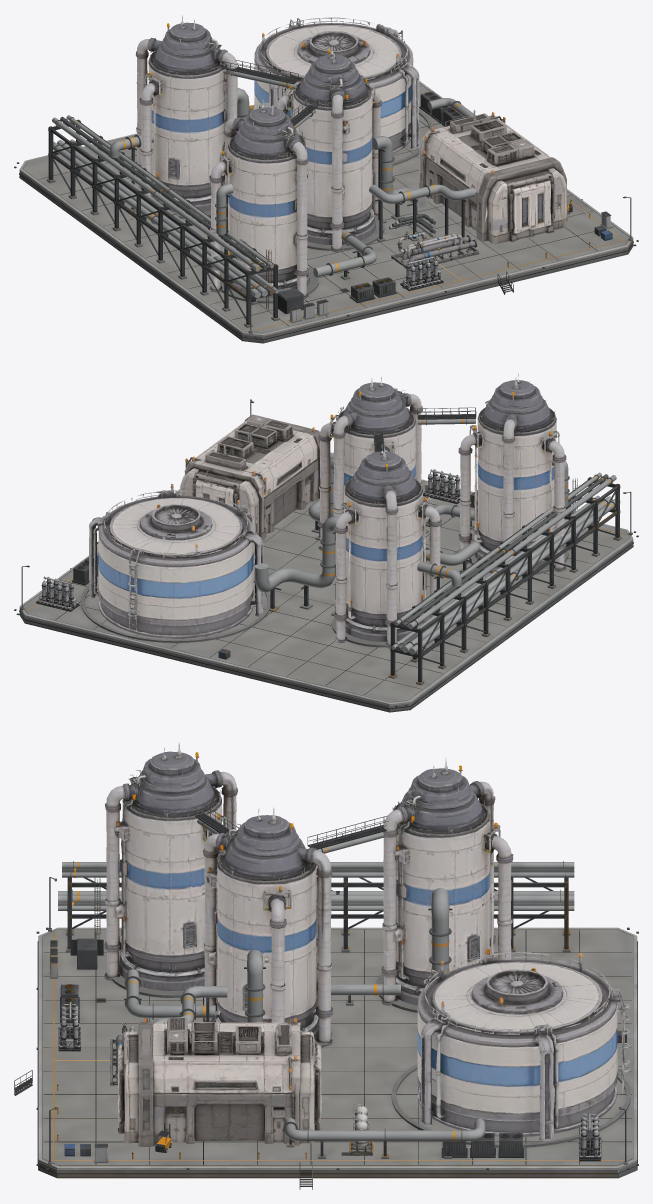
File: processing_plant.lite.glb
3 views of the same model, one above another, from view 1: azimuth 30°, elevation 25°; view 2: azimuth 150°, elevation 25°; view 3: azimuth 270°, elevation 25° (orthographic). The views are drawn at different scales.
Parts seen in each view (by area): view 1: hull, parts_colony-processVessel, parts_colony-plantBlock, parts_colony-bandedLowTank, parts_colony-manifoldSkid, parts_colony-filterBank; view 2: hull, parts_colony-processVessel, parts_colony-bandedLowTank, parts_colony-plantBlock, parts_colony-filterBank; view 3: hull, parts_colony-processVessel, parts_colony-bandedLowTank, parts_colony-plantBlock, parts_colony-filterBank, parts_colony-bottleSkid.
Part boxes in pixels (x1,y1,x2,y2): hull: [14, 30, 638, 343]; parts_colony-processVessel: [135, 15, 381, 298]; parts_colony-plantBlock: [418, 110, 567, 244]; parts_colony-bandedLowTank: [254, 17, 419, 153]; parts_colony-manifoldSkid: [391, 231, 479, 269]; parts_colony-filterBank: [400, 256, 443, 291]; hull: [14, 399, 638, 712]; parts_colony-processVessel: [318, 373, 566, 648]; parts_colony-bandedLowTank: [88, 484, 263, 638]; parts_colony-plantBlock: [180, 414, 320, 544]; parts_colony-filterBank: [36, 469, 460, 611]; hull: [14, 805, 638, 1189]; parts_colony-processVessel: [104, 742, 513, 1046]; parts_colony-bandedLowTank: [417, 952, 630, 1141]; parts_colony-plantBlock: [117, 1017, 321, 1146]; parts_colony-filterBank: [58, 1001, 601, 1161]; parts_colony-bottleSkid: [349, 1103, 373, 1155].
Bounding box in the file's own units: 75.29 × 33.77 × 79.28.
9 materials, 9 textured.
